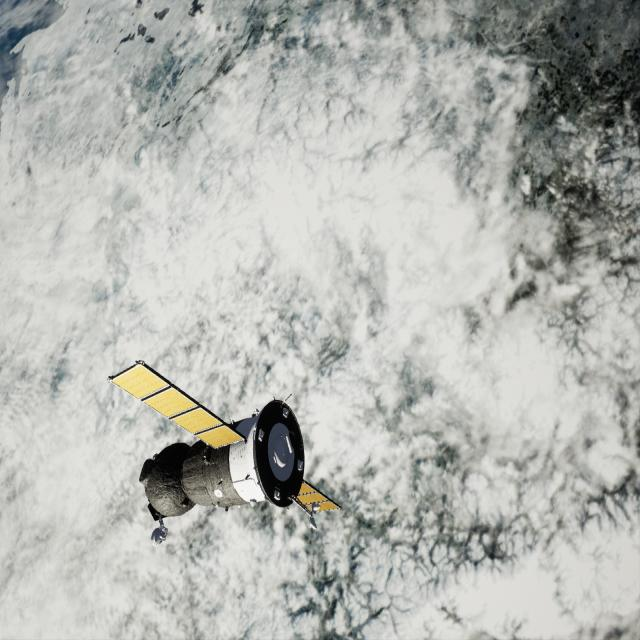Satellites revolving around earth: (106, 357, 342, 547)
